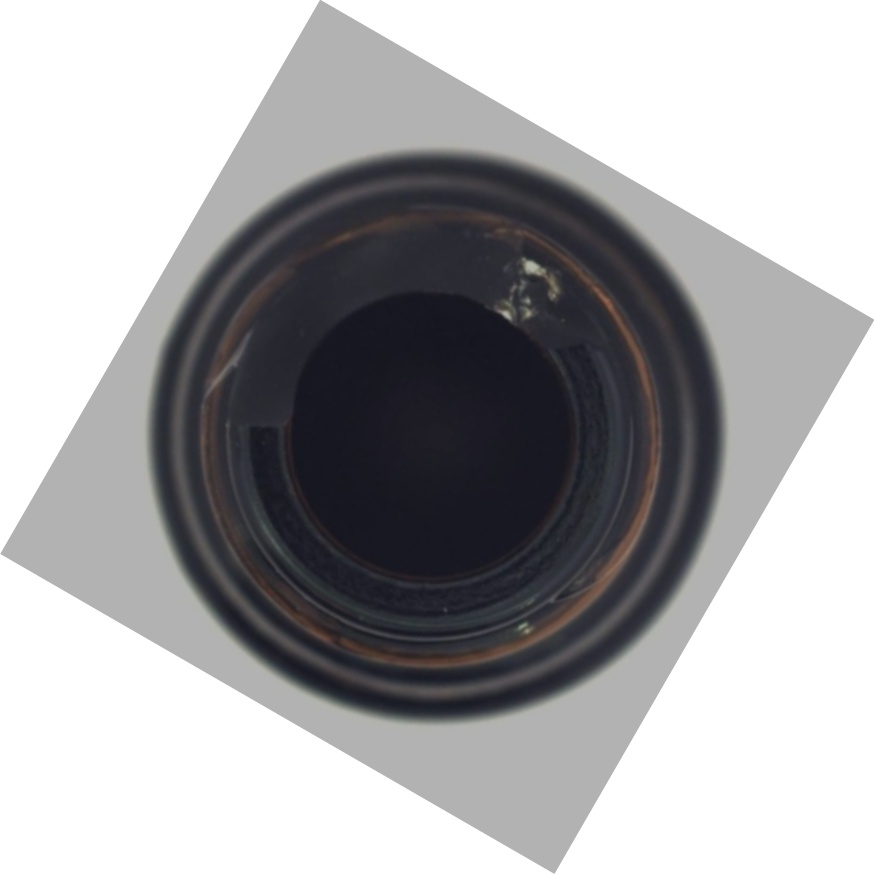bad-broken_large: (39, 41, 830, 835)
